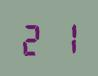one: (49, 19, 78, 54)
two: (19, 21, 48, 56)
